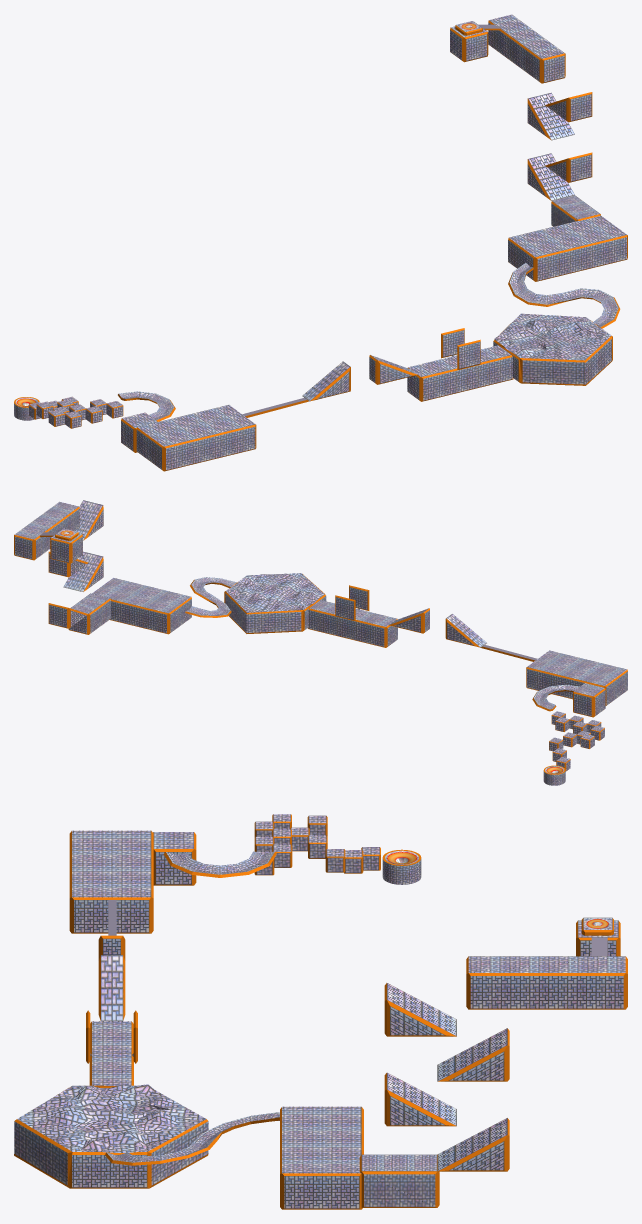
File: Level35.fbx
3 renders of one model, top to bottom at view 1: azimuth 30°, elevation 25°; view 2: azimuth 150°, elevation 25°; view 3: azimuth 270°, elevation 25°, orthographic. The views are drawn at different scales.
Visible parts, largest first — view 1: Level35; view 2: Level35; view 3: Level35.
Boxes of the visible parts, x1,y1,x2,y2 form: Level35: (14, 14, 627, 471); Level35: (14, 500, 627, 785); Level35: (14, 814, 627, 1209).
Size of the model in its own units: 7332 by 2620 by 4552.
10 materials, 7 textured.
